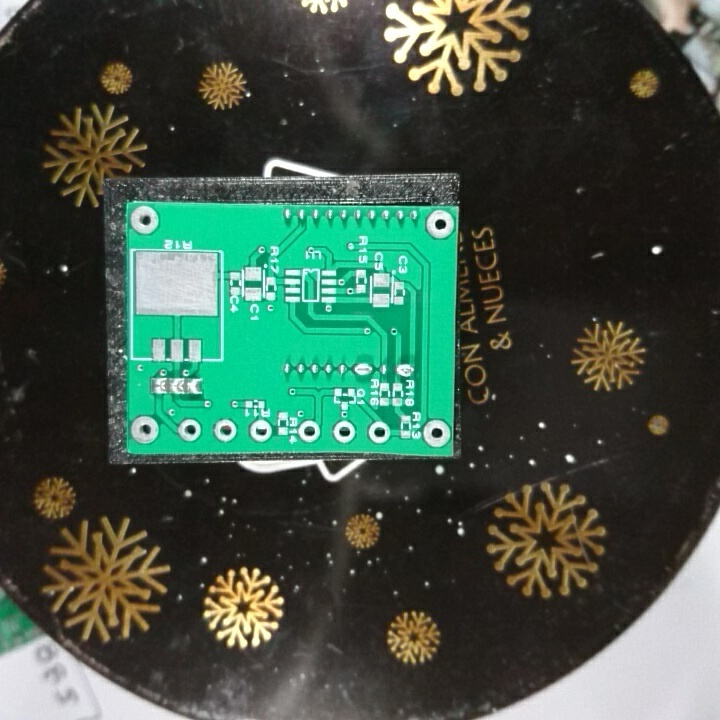F: (423, 206, 457, 243), (129, 204, 160, 235), (421, 418, 451, 449), (130, 413, 159, 445), (174, 417, 205, 445), (210, 416, 237, 444), (367, 418, 391, 446), (295, 420, 321, 445), (332, 420, 358, 445), (248, 417, 271, 445)
P: (351, 360, 375, 378), (395, 360, 415, 378)
